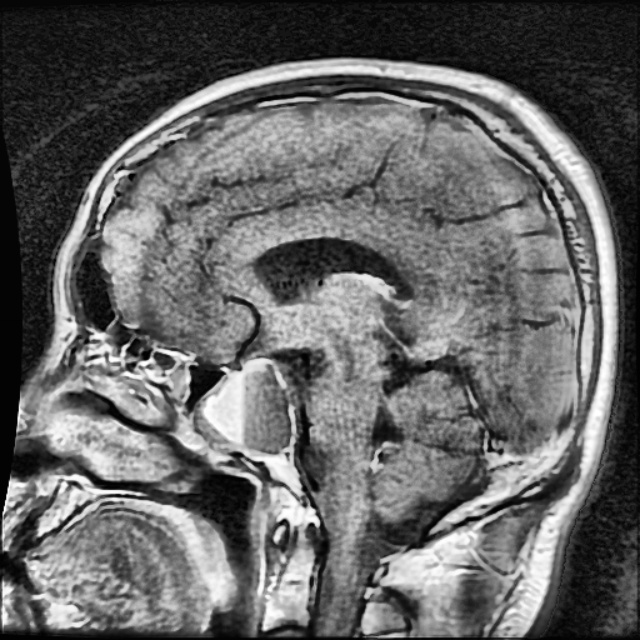Pituitary: (190, 349, 298, 462)
